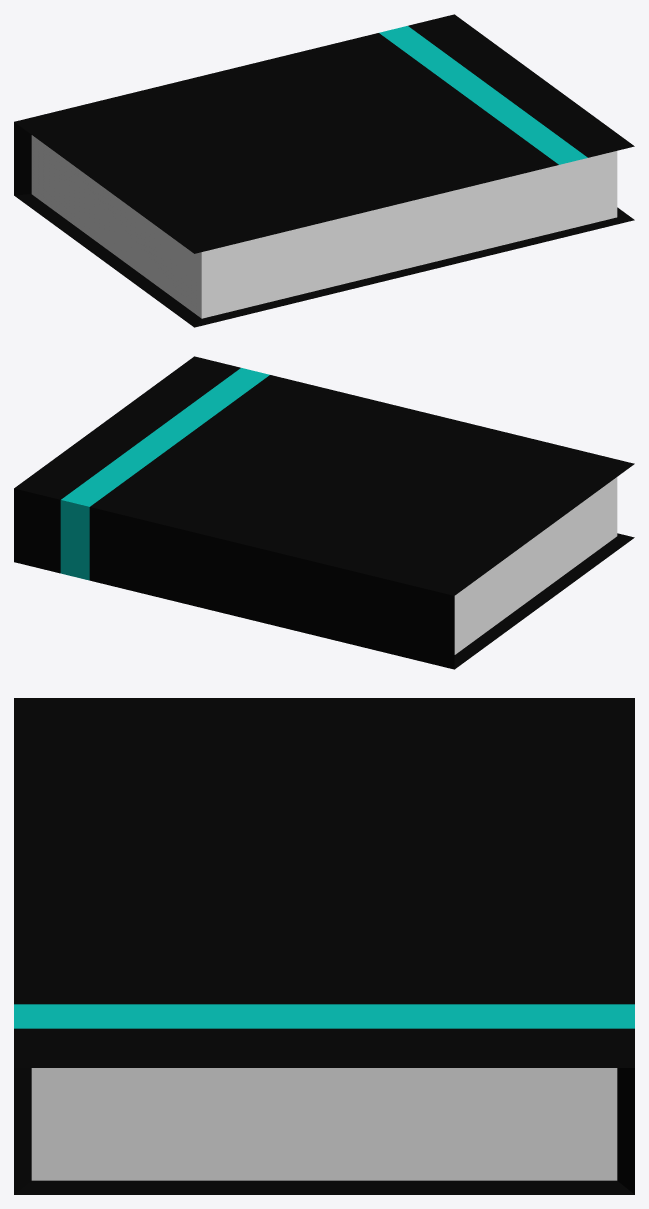
Rendered from book 4.fbx.
3 renders of one model, top to bottom at view 1: azimuth 30°, elevation 25°; view 2: azimuth 150°, elevation 25°; view 3: azimuth 270°, elevation 25°, orthographic. The views are drawn at different scales.
Visible parts, largest first — view 1: polySurface1269; view 2: polySurface1269; view 3: polySurface1269.
Boxes of the visible parts, <box> form: polySurface1269: <box>14,14,634,327</box>; polySurface1269: <box>14,356,634,669</box>; polySurface1269: <box>14,698,634,1194</box>.
Size of the model in its own units: 1054 by 169 by 748.
